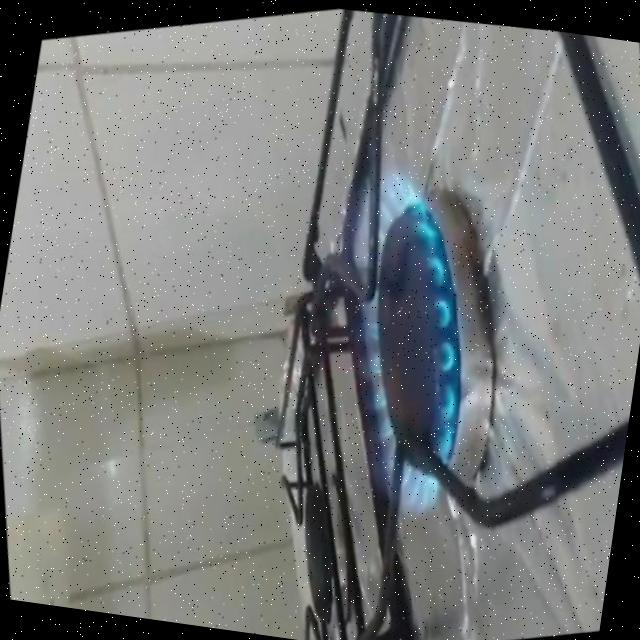fire: (279, 135, 527, 545)
